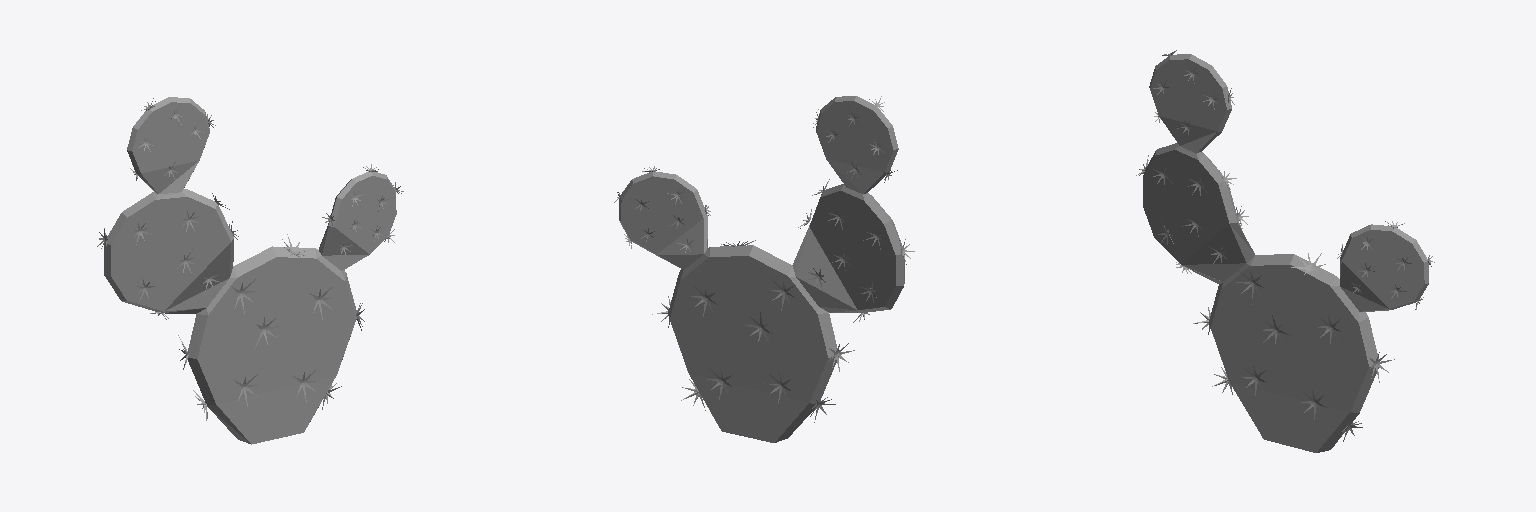
The model's file is cactus01.obj.
The picture shows the model from 3 angles: view 1: azimuth 30°, elevation 25°; view 2: azimuth 150°, elevation 25°; view 3: azimuth 330°, elevation 25°; orthographic projection.
Visible parts, largest first — view 1: Cactus_01_cactus01; view 2: Cactus_01_cactus01; view 3: Cactus_01_cactus01.
Part boxes in pixels (left/top/right/bottom): Cactus_01_cactus01: left=97, top=97, right=403, bottom=444; Cactus_01_cactus01: left=614, top=96, right=914, bottom=442; Cactus_01_cactus01: left=1136, top=50, right=1434, bottom=452.
Size of the model in its own units: 0.7631 by 0.8863 by 0.1198.